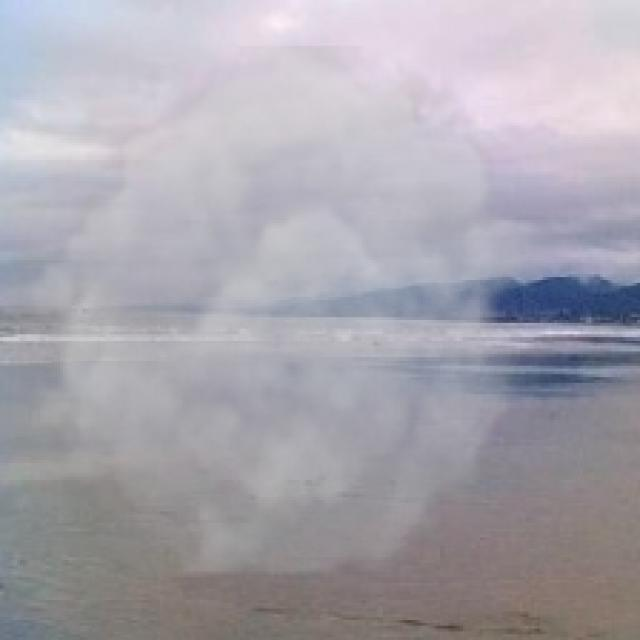Smoke: (5, 46, 558, 574)
